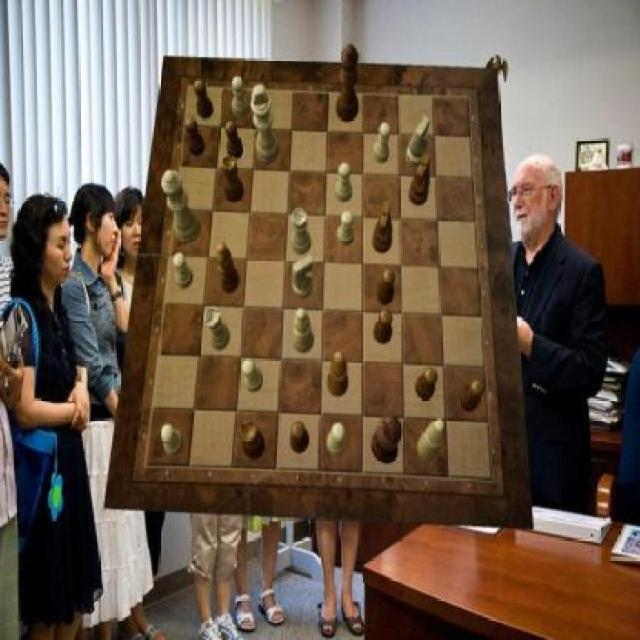bishop: (217, 241, 240, 294), (326, 351, 349, 396)
black-bishop: (371, 414, 402, 464)
black-king: (409, 154, 432, 208), (374, 201, 394, 254)
black-knight: (460, 378, 486, 412), (186, 117, 206, 157), (194, 80, 214, 120), (416, 368, 438, 402), (374, 310, 394, 346), (225, 120, 242, 160), (291, 421, 311, 454), (377, 270, 395, 306)
black-pawn: (337, 43, 360, 122)
black-queen: (223, 155, 246, 203), (240, 422, 266, 460)
black-rook: (418, 418, 446, 461), (292, 308, 315, 353)
white-bishop: (251, 84, 280, 164)
white-king: (406, 117, 430, 169), (292, 256, 313, 300)
white-knight: (174, 252, 194, 290), (162, 423, 184, 457), (232, 77, 250, 118), (374, 123, 391, 165), (242, 359, 262, 393), (337, 163, 354, 203), (337, 210, 355, 246), (328, 422, 345, 456)
white-pawn: (162, 170, 202, 244)
white-queen: (206, 308, 231, 352), (290, 210, 312, 256)
